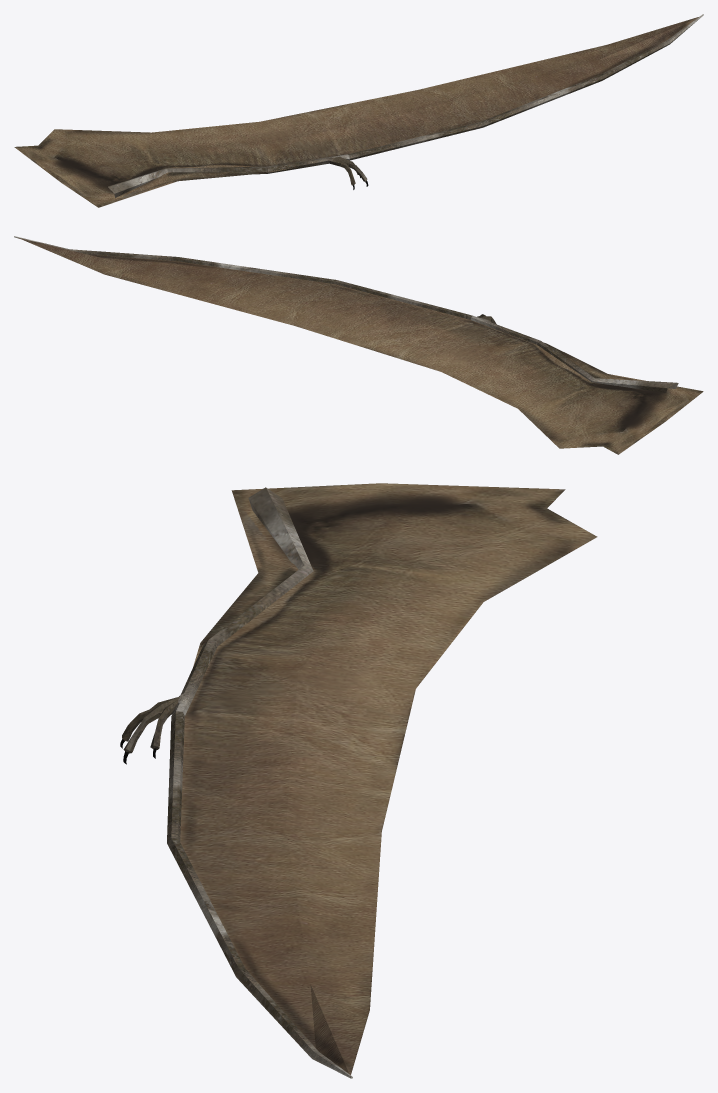
The model's file is pteroAlaI.obj.
3 views of the same model, one above another, from view 1: azimuth 30°, elevation 25°; view 2: azimuth 150°, elevation 25°; view 3: azimuth 270°, elevation 25° (orthographic). The views are drawn at different scales.
Parts seen in each view (by area): view 1: pteroAlas:corpo1corpo; view 2: pteroAlas:corpo1corpo; view 3: pteroAlas:corpo1corpo.
Boxes of the visible parts, x1,y1,x2,y2 form: pteroAlas:corpo1corpo: (14, 14, 703, 207); pteroAlas:corpo1corpo: (14, 236, 703, 454); pteroAlas:corpo1corpo: (120, 483, 597, 1078).
Size of the model in its own units: 4.64 by 0.2512 by 1.51.
Materials: 1 (1 with a texture image).
